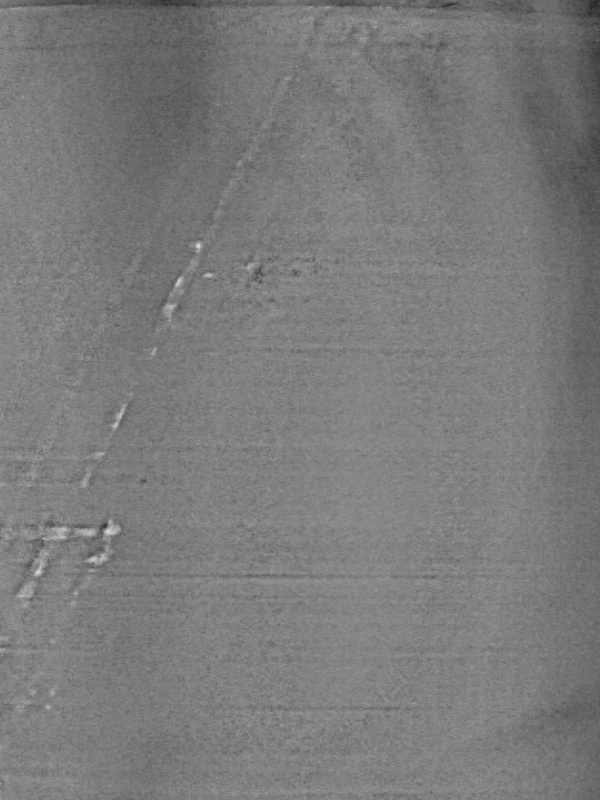splice_vulcanized: (1, 5, 348, 722)
